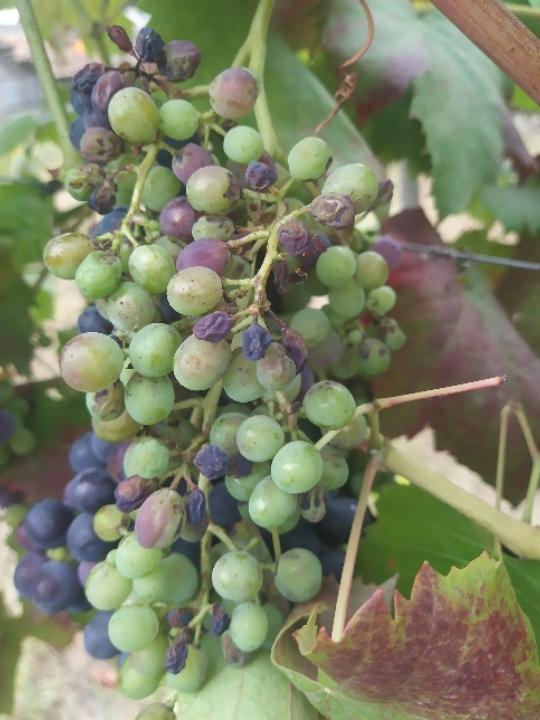grape: (13, 22, 403, 720)
